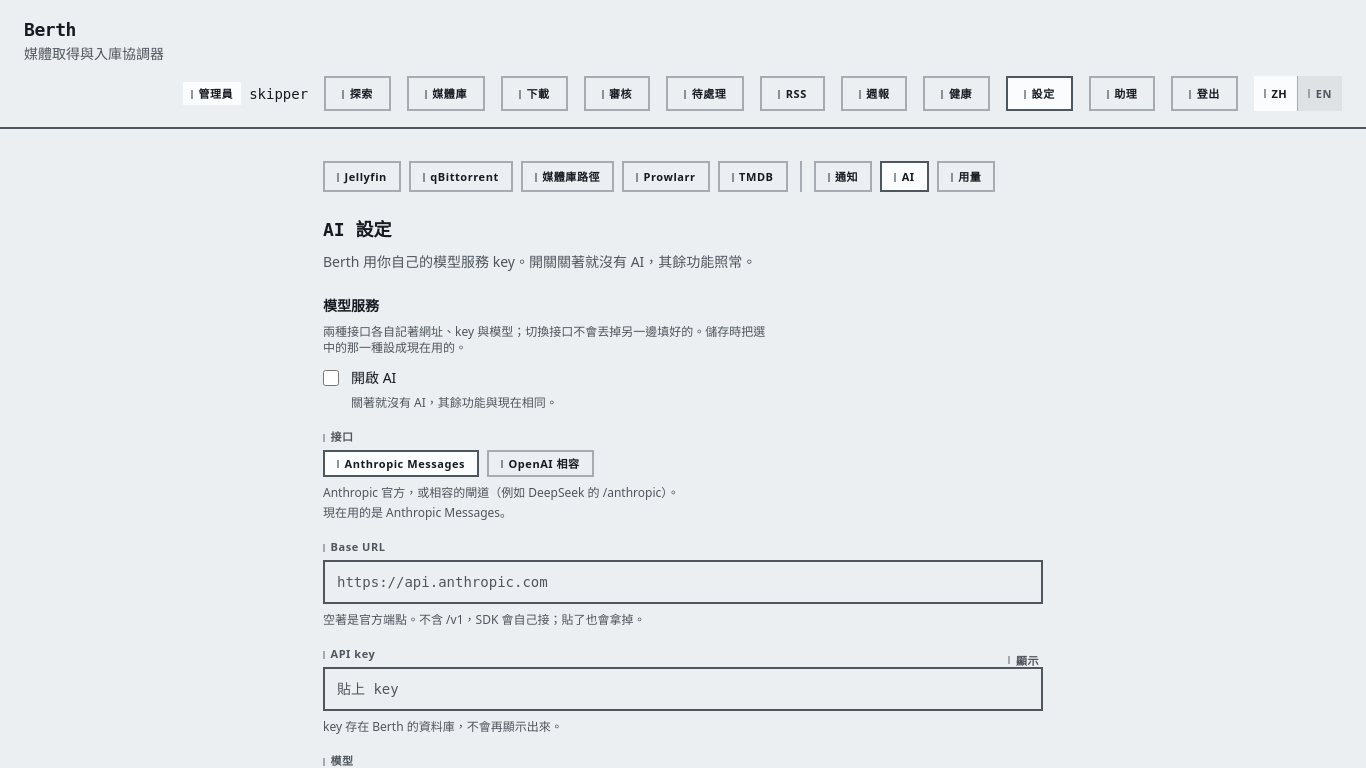
Test: 設定 → AI › base_url_invalid：標在 Base URL 欄下
The image size is (1366, 768).
Type "api.deepseek.com" into the field labelled "Base URL" at (683, 582), box [323,560,1043,604]
(page scrolled)
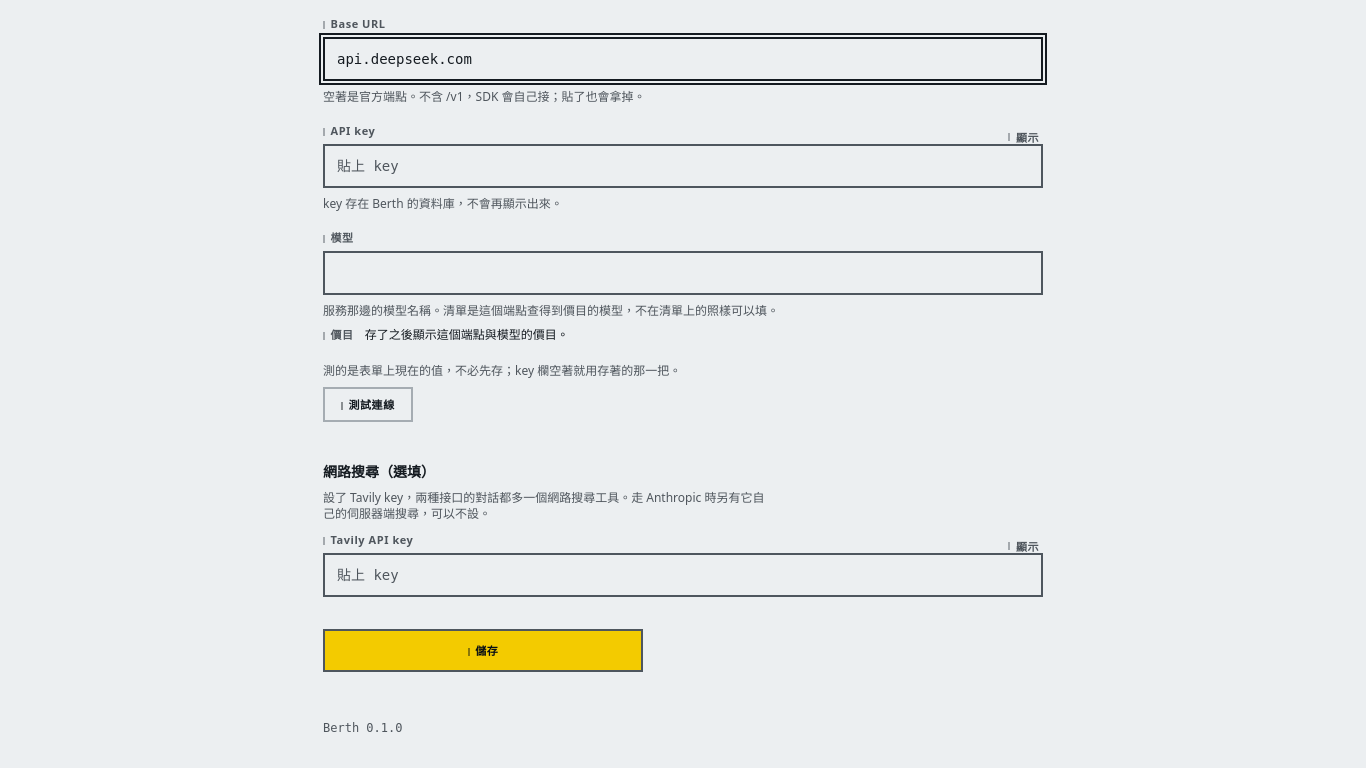
Click the button "儲存" at (483, 651), box [323,629,643,672]
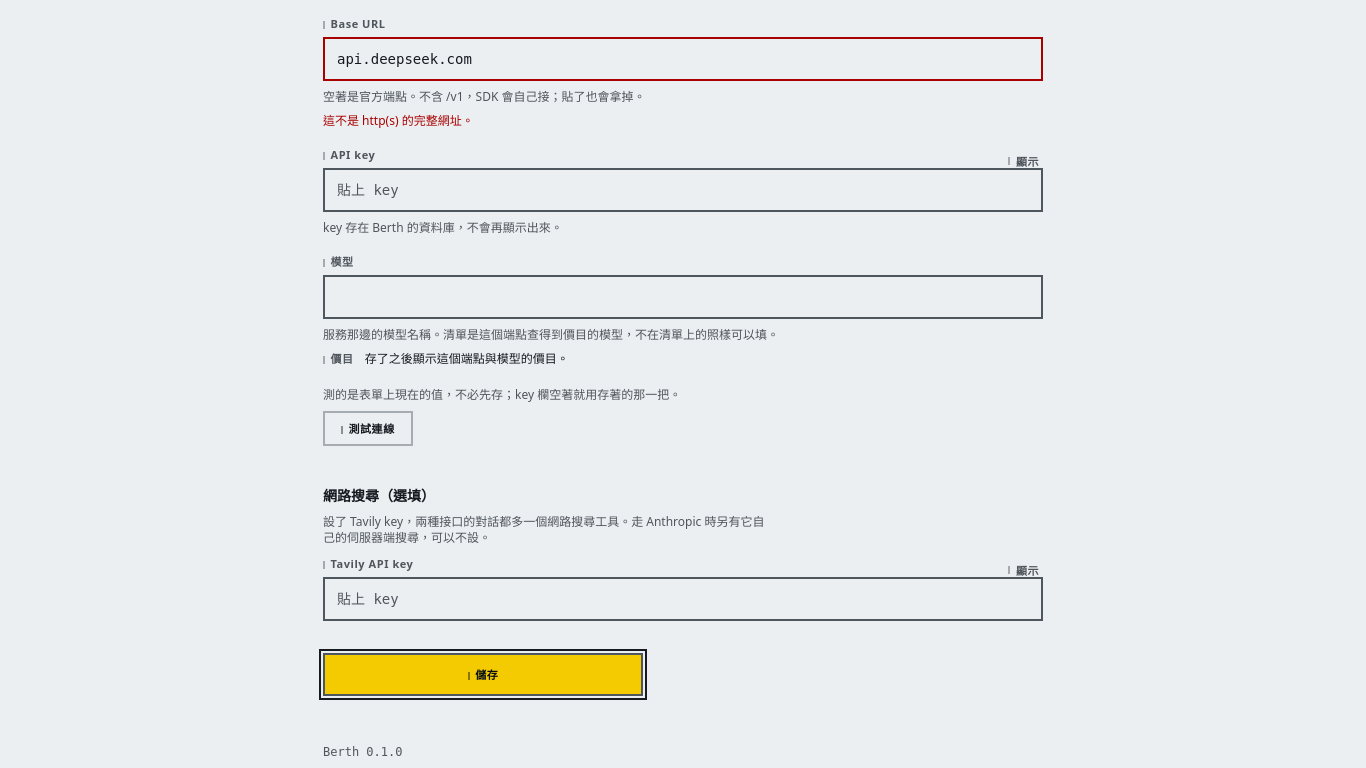
Result: the text "這不是 http(s) 的完整網址。" is shown at [323,112,474,129]
